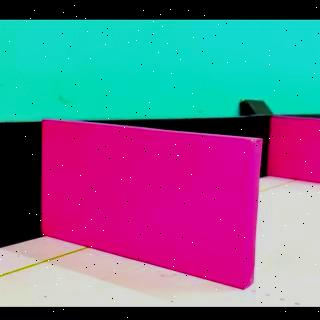xparking: (55, 141, 251, 283), (278, 121, 316, 179)
